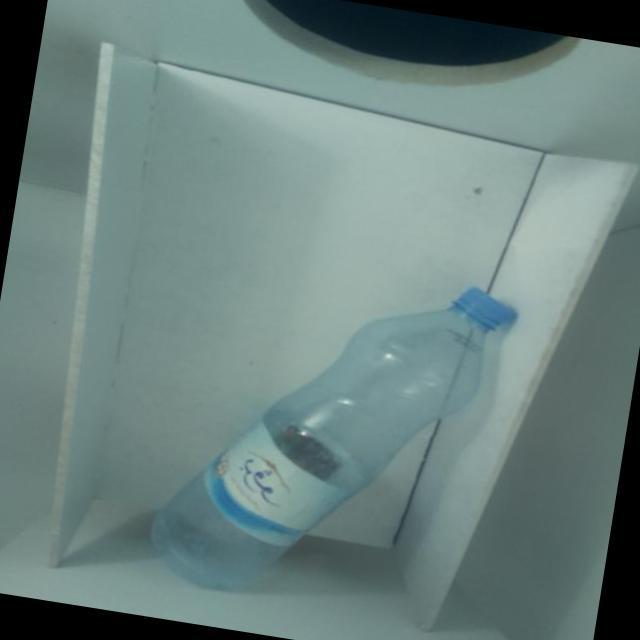good: (112, 222, 525, 640)
